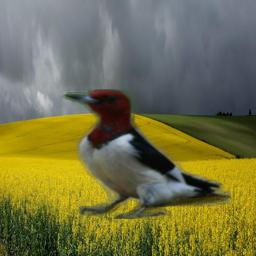Woodpecker: (61, 89, 231, 219)
